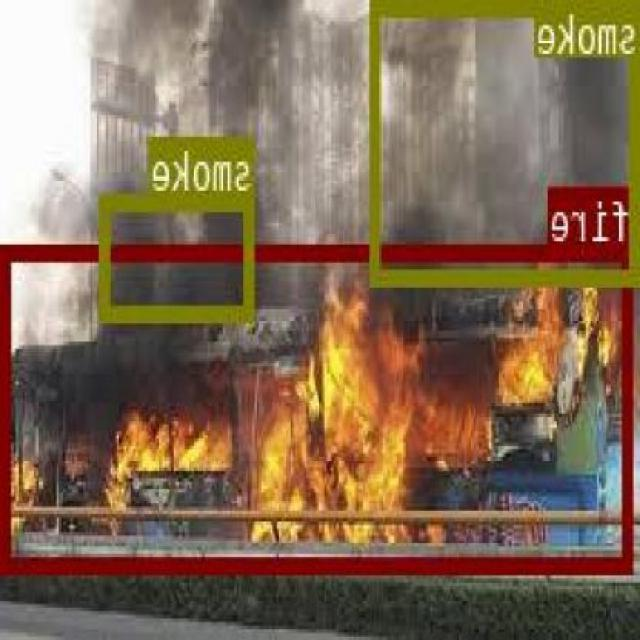Fire: (10, 253, 628, 560)
Smoke: (55, 0, 640, 337)
